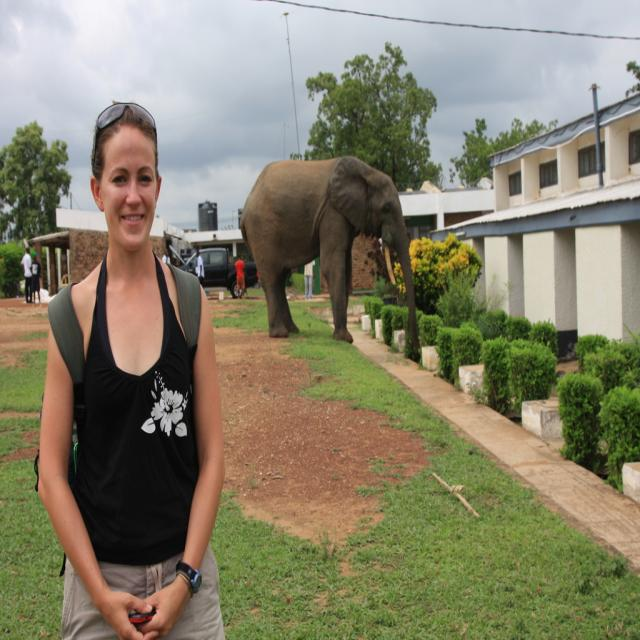Elephant: (239, 155, 420, 356)
person: (36, 101, 226, 639), (20, 246, 32, 302), (30, 251, 42, 304), (234, 254, 246, 298), (304, 259, 314, 300), (196, 249, 204, 287), (161, 248, 170, 264)
